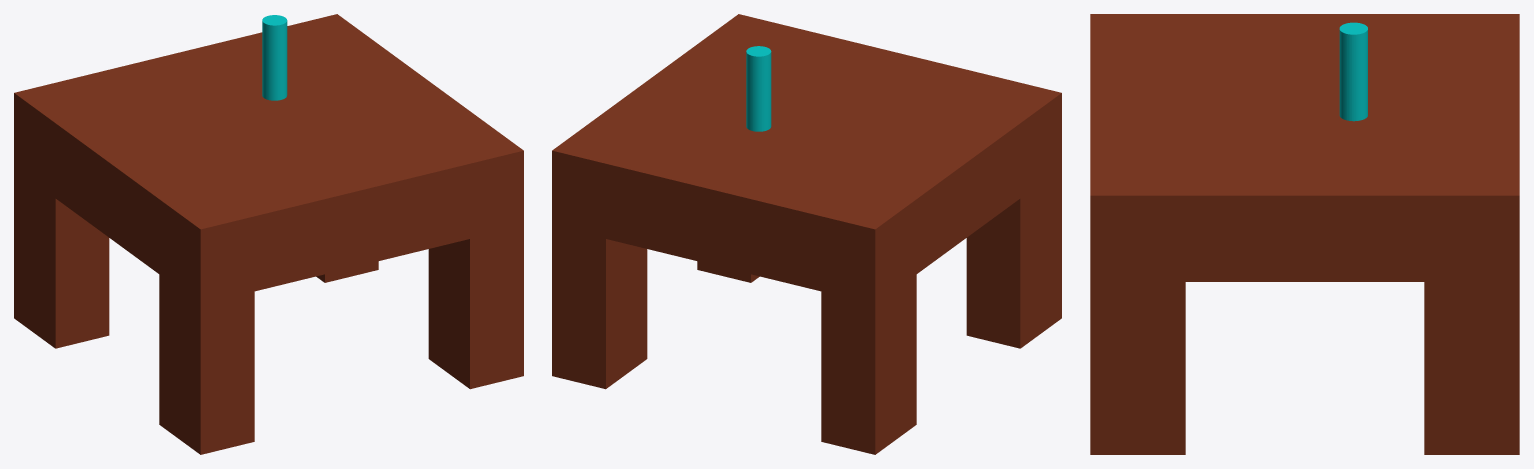
The model's file is can_world_1_cans.dae.
The picture shows the model from 3 angles, left to right: view 1: azimuth 30°, elevation 25°; view 2: azimuth 150°, elevation 25°; view 3: azimuth 270°, elevation 25°; orthographic projection. The views are drawn at different scales.
Parts seen in each view (by area): view 1: base (×6); view 2: base (×6); view 3: base (×4).
Part boxes in pixels (<box>): base (×6): <box>14,14,523,454</box>; base (×6): <box>552,14,1061,454</box>; base (×4): <box>1090,14,1519,454</box>.
Size of the model in its own units: 0.9 by 0.9 by 0.811.
